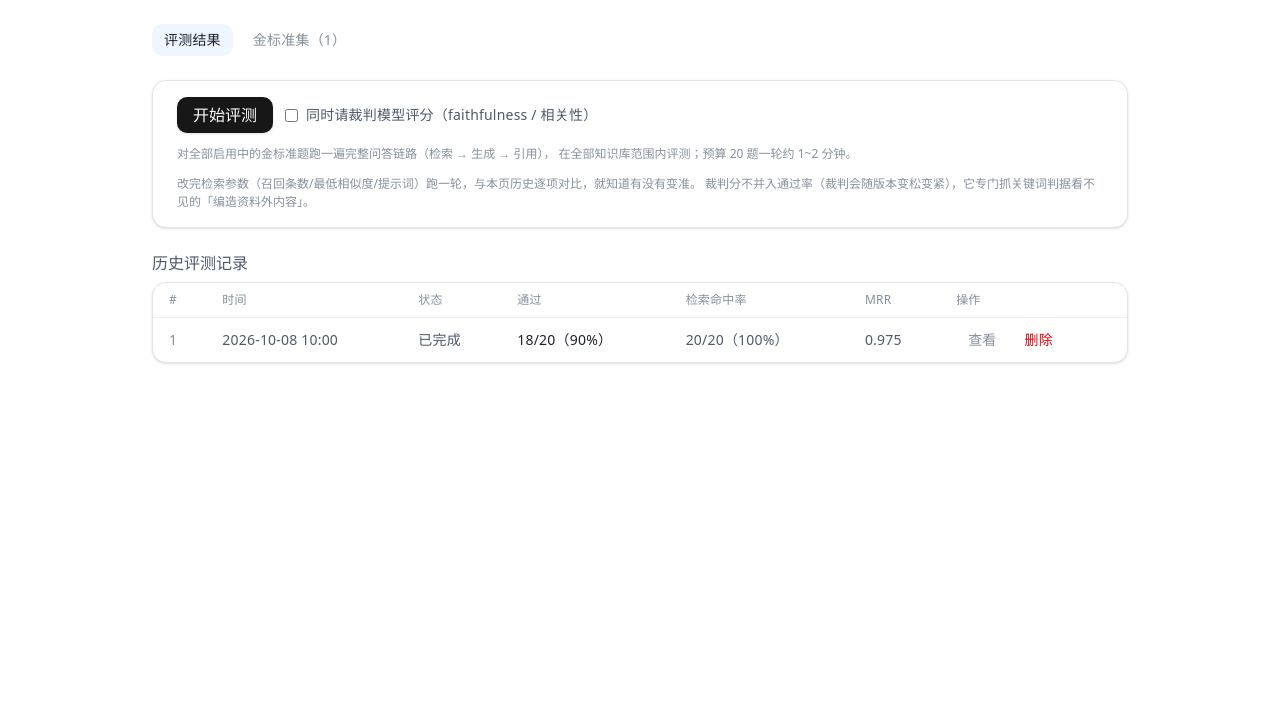
Test: 评测页 › 点开始评测：POST 空体并刷新历史（新记录立刻出现）
Click the button "开始评测".
click(225, 115)  # box [177,97,273,133]
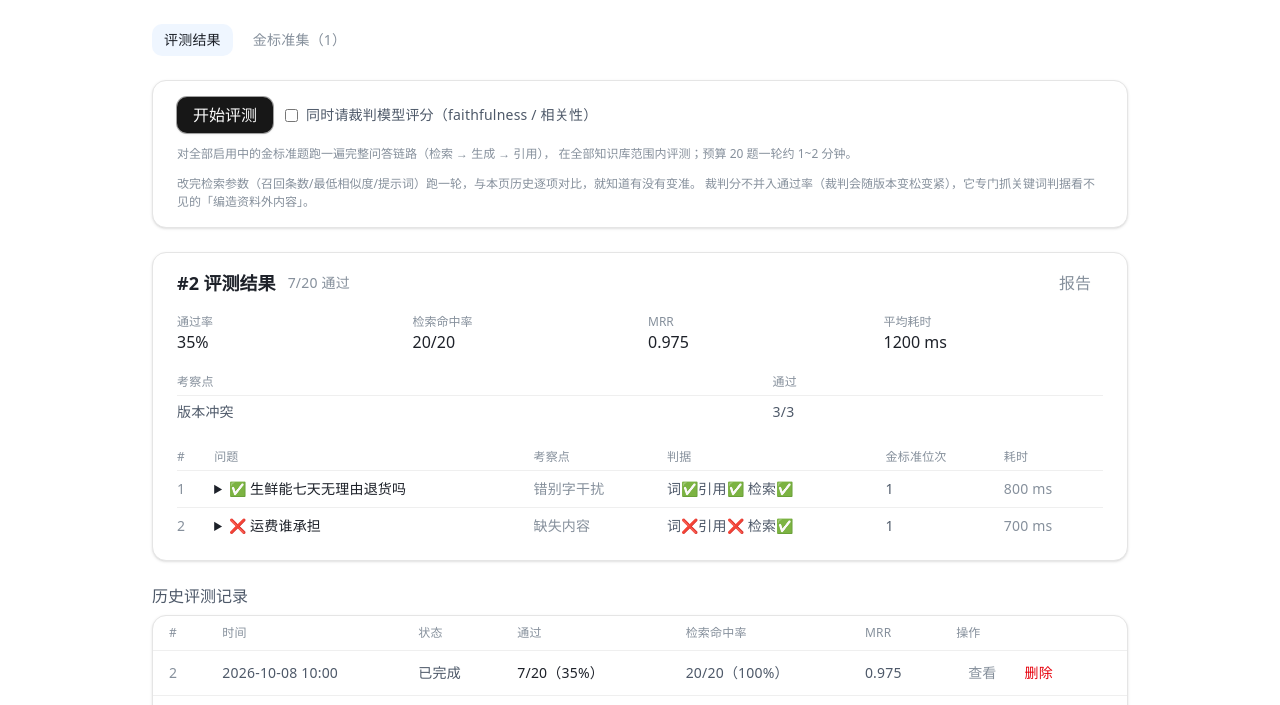
Now the text "7/20（35%）" is shown, box [501,650,670,696]
